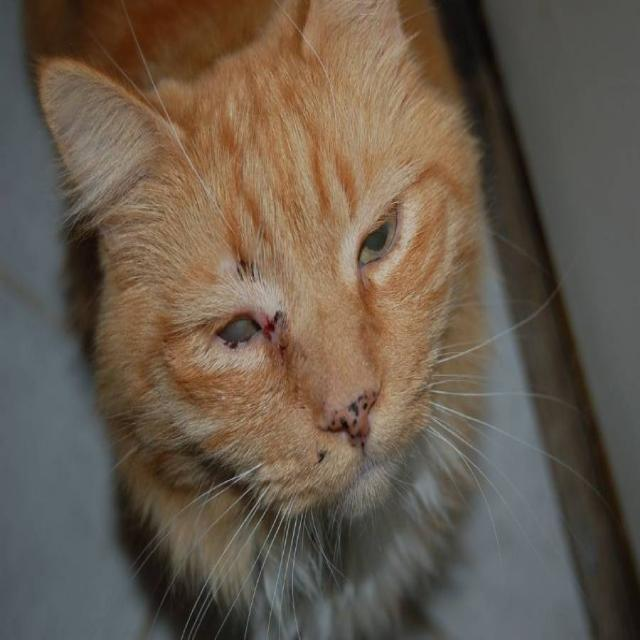cat-eye: (184, 275, 292, 384)
cat-eye-normal: (338, 193, 420, 310)
